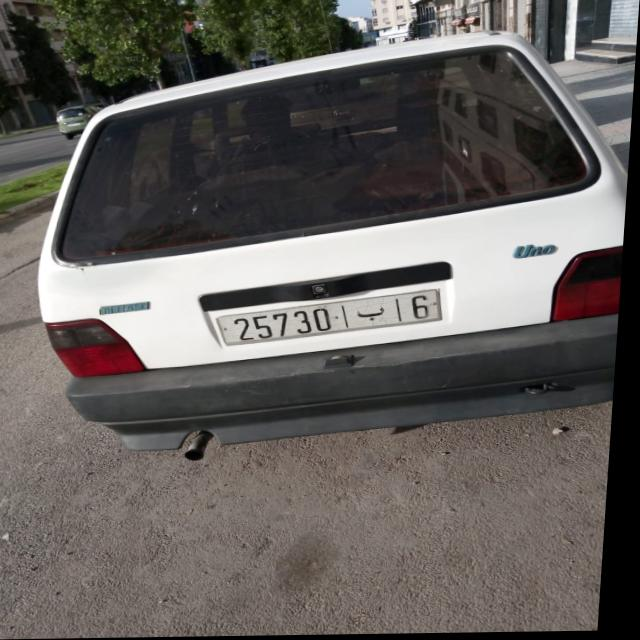License-Plate: (221, 291, 447, 346)
